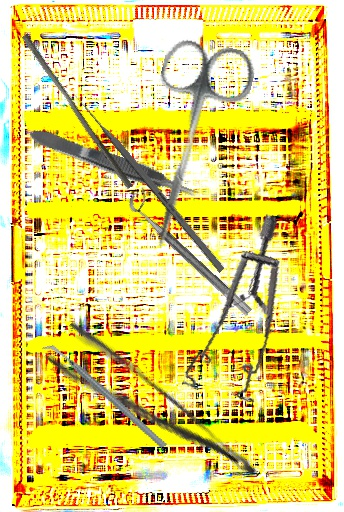Chopper: (41, 317, 168, 476)
Dressing Forceps: (42, 317, 262, 508)
Fixation Ring: (124, 186, 263, 317)
Iris Scissors: (119, 33, 260, 260)
Pusher: (69, 89, 226, 273), (15, 33, 140, 190)
Speculum: (155, 212, 308, 416)
Tissue Forceps: (27, 121, 202, 207)
